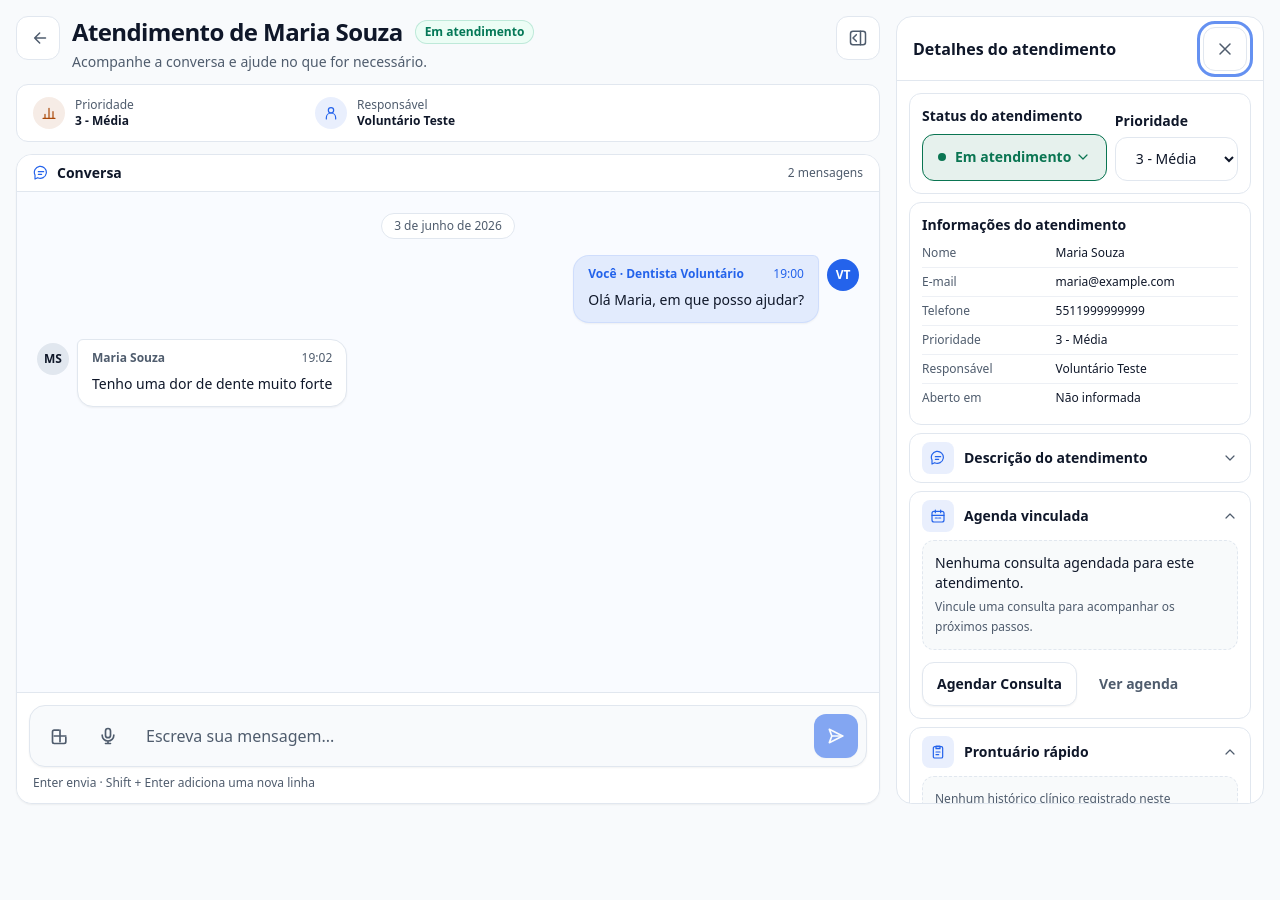
Test: DetalheAtendimento - Deduplicação de Mensagens › deve evitar a duplicação visual de mensagem enviada pelo próprio usuário quando o broadcast do WebSocket chega
Expected: the heading "Atendimento de Maria Souza" is shown, [72,16,403,48]
In the text box with placeholder "Escreva sua mensagem...": (472, 736) [134,714,810,758], type "Estou enviando um teste agora mesmo"
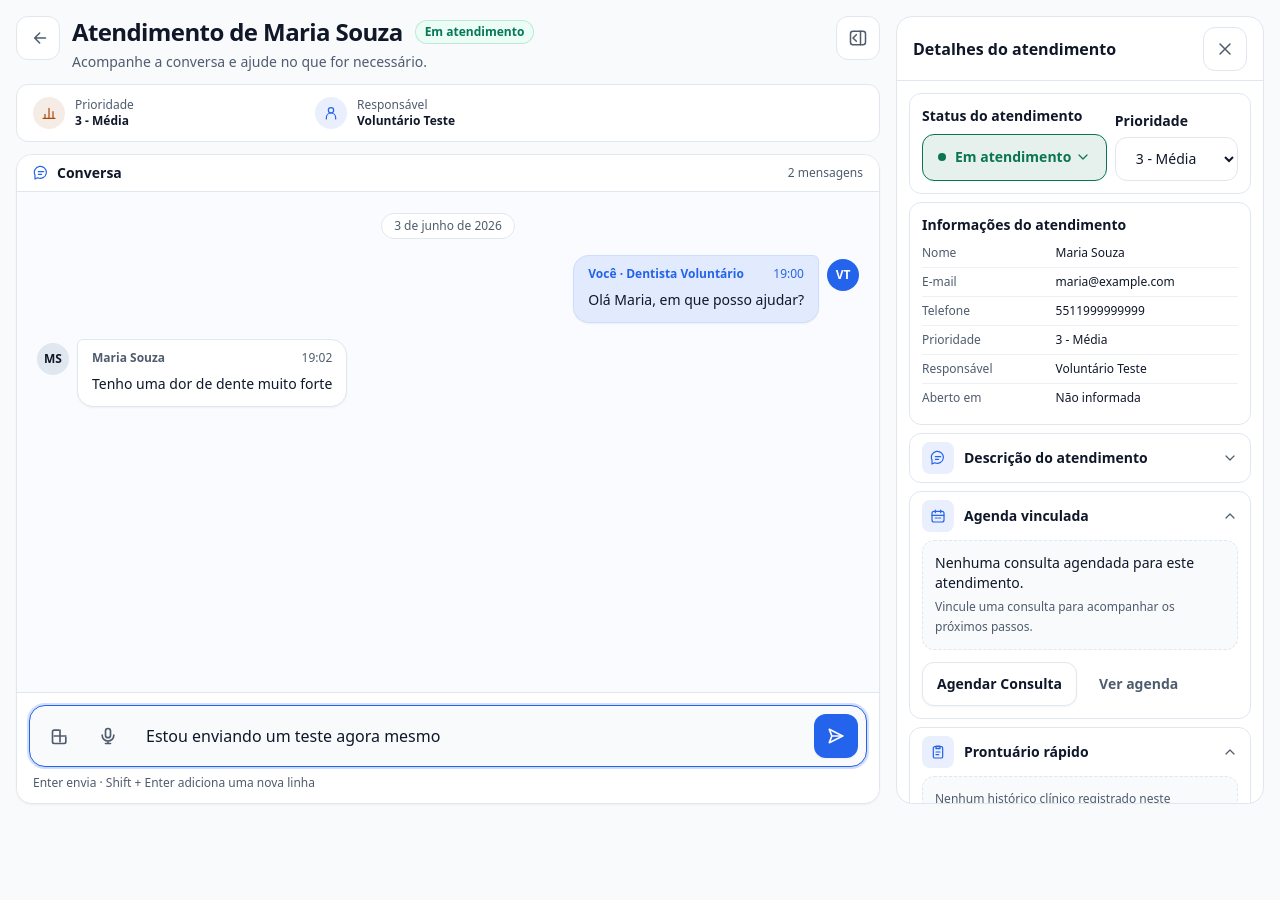
Click the button named "Enviar mensagem": (836, 736) [814,714,858,758]
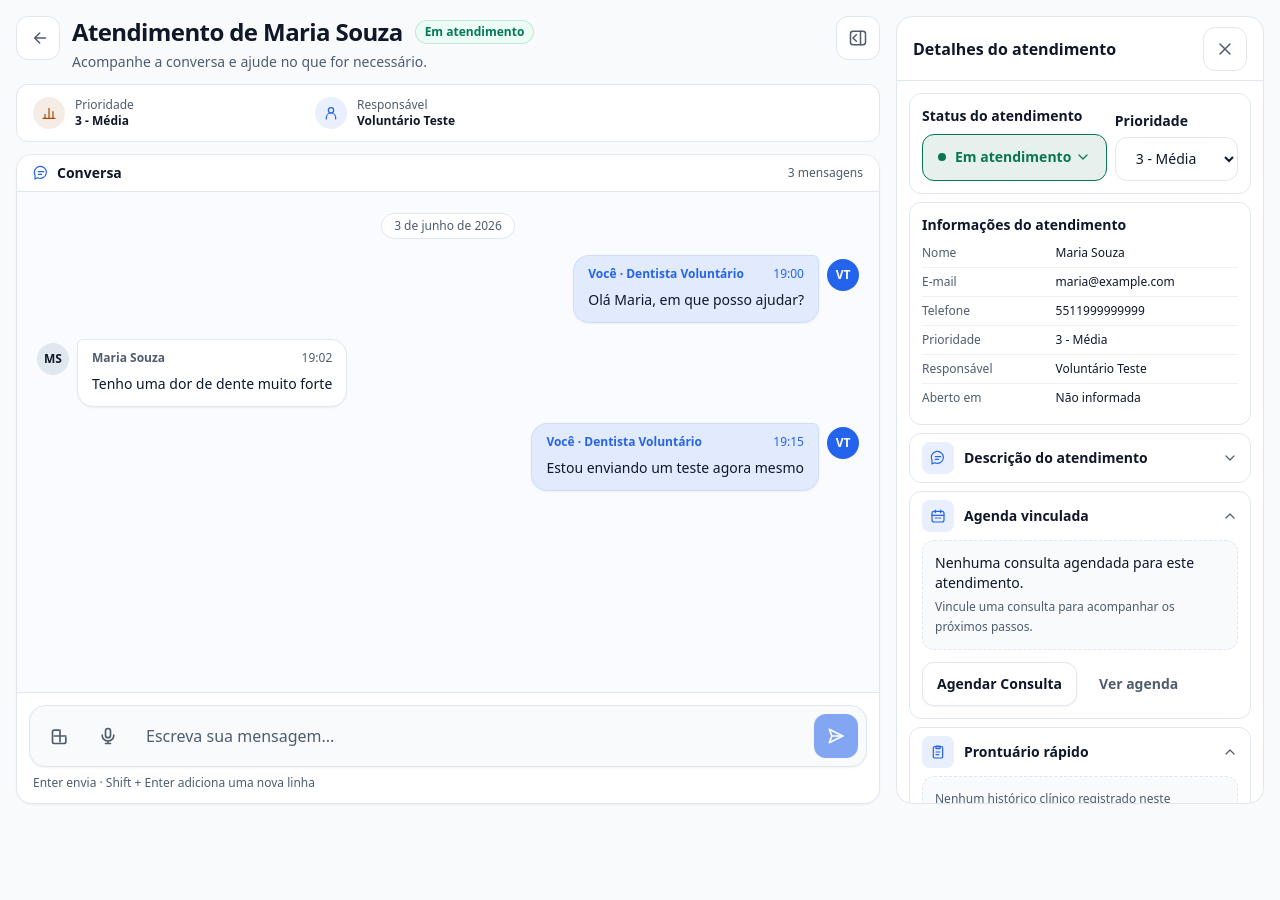
Expected: the text "Estou enviando um teste agora mesmo" is shown once, [546,456,804,480]
